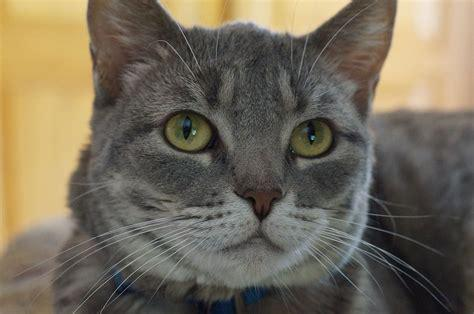cat: (53, 1, 397, 314)
